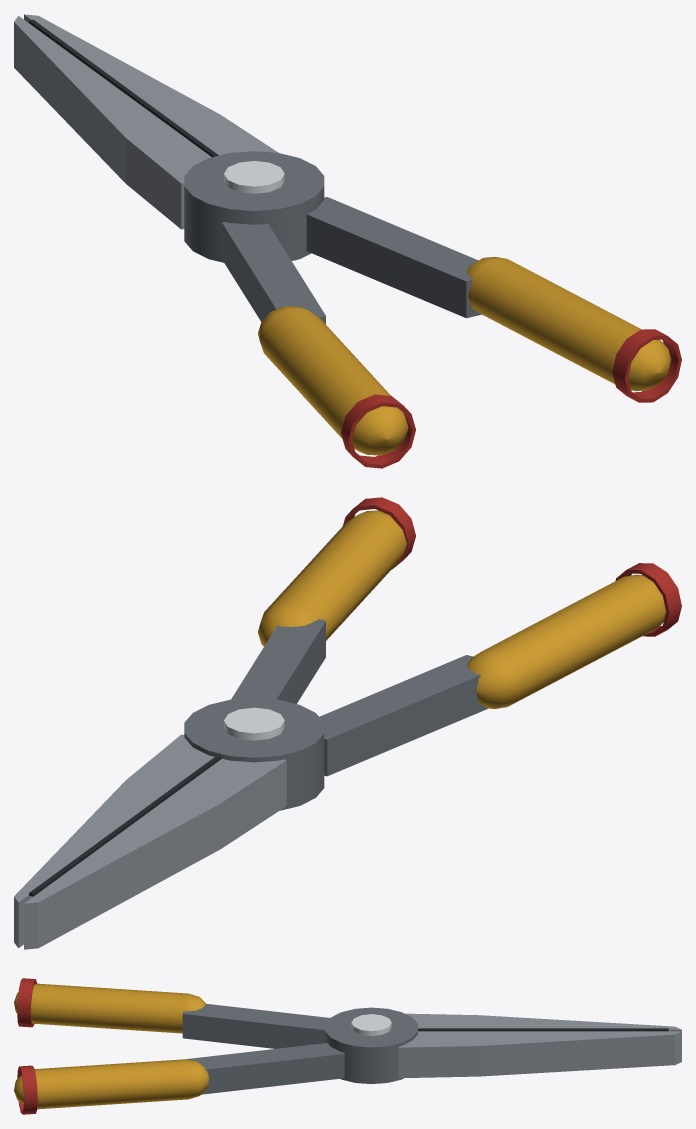
Rendered from herr_pinza.obj.
3 renders of one model, top to bottom at view 1: azimuth 30°, elevation 25°; view 2: azimuth 150°, elevation 25°; view 3: azimuth 270°, elevation 25°, orthographic. The views are drawn at different scales.
Visible parts, largest first — view 1: herr_pinza.001, herr_pinza.009, herr_pinza.007, herr_pinza.008, herr_pinza.004, herr_pinza.002, herr_pinza.006, herr_pinza.011, herr_pinza.010, herr_pinza.005, herr_pinza.003; view 2: herr_pinza.001, herr_pinza.008, herr_pinza.006, herr_pinza.009, herr_pinza.004, herr_pinza.002, herr_pinza.007, herr_pinza.005, herr_pinza.010, herr_pinza.003, herr_pinza.011; view 3: herr_pinza.002, herr_pinza.009, herr_pinza.008, herr_pinza.007, herr_pinza.006, herr_pinza.004, herr_pinza.001, herr_pinza.003, herr_pinza.011, herr_pinza.005, herr_pinza.010.
Boxes of the visible parts, x1,y1,x2,y2 form: herr_pinza.001: (14,16,211,229); herr_pinza.009: (466,257,671,391); herr_pinza.007: (306,197,481,318); herr_pinza.008: (258,306,408,455); herr_pinza.004: (184,151,324,262); herr_pinza.002: (24,14,278,155); herr_pinza.006: (222,222,325,324); herr_pinza.011: (612,329,681,402); herr_pinza.010: (341,394,415,468); herr_pinza.005: (224,161,284,193); herr_pinza.003: (29,19,218,157); herr_pinza.001: (24,758,286,949); herr_pinza.008: (466,574,666,708); herr_pinza.006: (319,655,487,776); herr_pinza.009: (258,510,406,646); herr_pinza.004: (184,698,324,810); herr_pinza.002: (14,734,214,948); herr_pinza.007: (231,619,325,703); herr_pinza.005: (224,707,284,740); herr_pinza.010: (615,563,681,636); herr_pinza.003: (29,755,221,896); herr_pinza.011: (343,497,415,569); herr_pinza.002: (398,1031,681,1078); herr_pinza.009: (14,1059,209,1109); herr_pinza.008: (14,983,205,1033); herr_pinza.007: (186,1043,344,1094); herr_pinza.006: (182,1003,329,1048); herr_pinza.004: (325,1007,417,1084); herr_pinza.001: (405,1013,681,1031); herr_pinza.003: (418,1028,668,1031); herr_pinza.011: (17,1065,37,1114); herr_pinza.005: (351,1014,391,1035); herr_pinza.010: (17,978,37,1027).
Size of the model in its own units: 0.038 by 0.0075 by 0.099.
